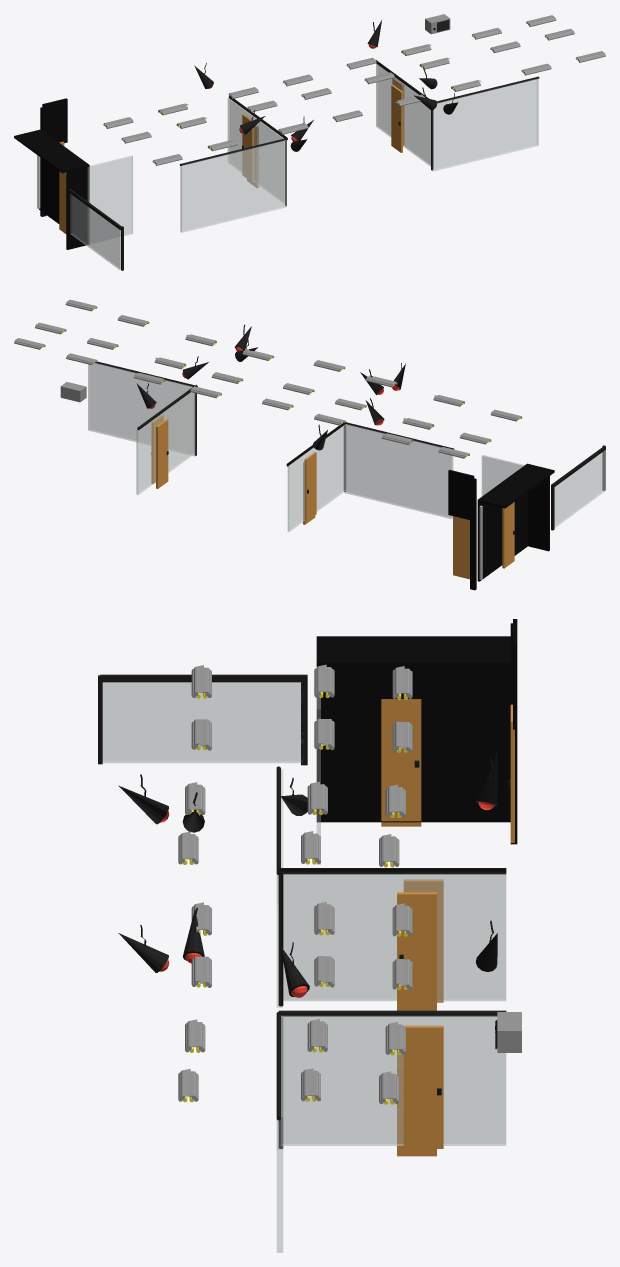
File: props.FBX
3 renders of one model, top to bottom at view 1: azimuth 30°, elevation 25°; view 2: azimuth 150°, elevation 25°; view 3: azimuth 270°, elevation 25°, orthographic. The views are drawn at different scales.
Parts seen in each view (by area): view 1: mesh1967417599, mesh2112126766, mesh1688424886; view 2: mesh1967417599, mesh2112126766, mesh1688424886; view 3: mesh1967417599, mesh2112126766, mesh1688424886.
Part boxes in pixels (x1,y1,x2,y2): mesh1967417599: (14,14,539,270); mesh2112126766: (103,15,605,165); mesh1688424886: (194,20,458,151); mesh1967417599: (60,361,605,590); mesh2112126766: (14,299,522,458); mesh1688424886: (136,324,405,450); mesh1967417599: (98,619,521,1252); mesh2112126766: (178,664,412,1104); mesh1688424886: (118,750,497,997).
Bounding box in the file's own units: 5.28 × 1.18 × 1.9.
